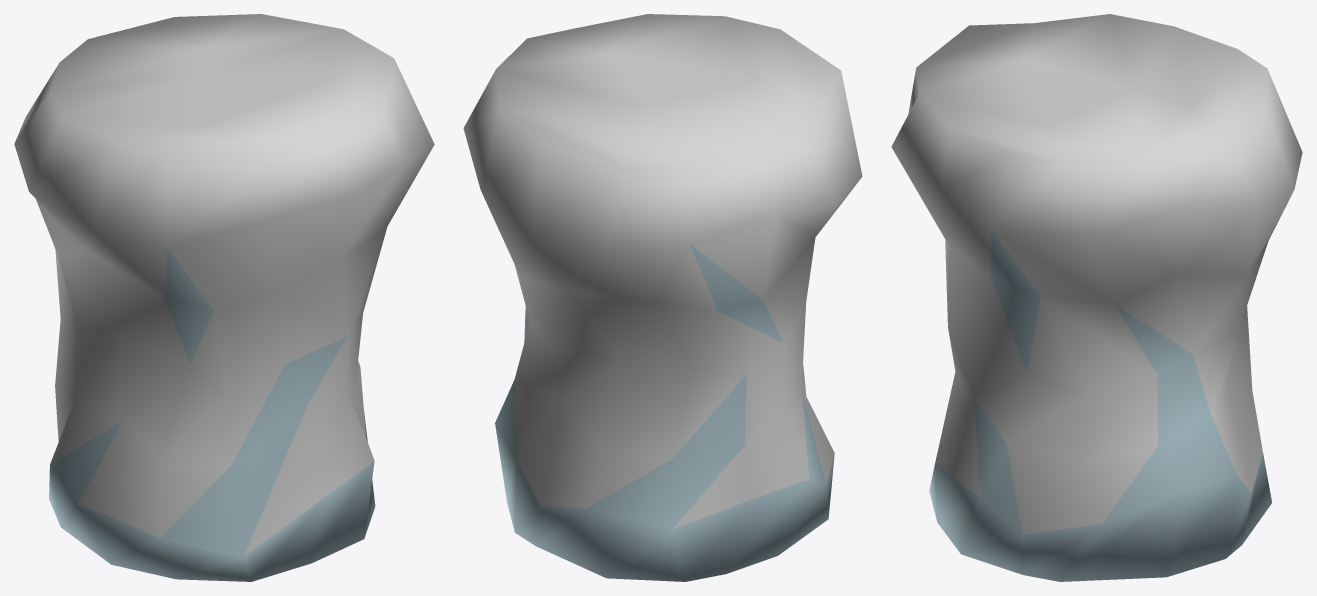
Rendered from scene_3_pillar.fbx.
The picture shows the model from 3 angles, left to right: view 1: azimuth 30°, elevation 25°; view 2: azimuth 150°, elevation 25°; view 3: azimuth 270°, elevation 25°; orthographic projection. The views are drawn at different scales.
Parts seen in each view (by area): view 1: Cylinder; view 2: Cylinder; view 3: Cylinder.
Part boxes in pixels (bbox=[...]): Cylinder: bbox=[14, 14, 434, 581]; Cylinder: bbox=[463, 14, 862, 581]; Cylinder: bbox=[891, 14, 1302, 581].
Bounding box in the file's own units: 4.83 × 5.46 × 4.66.
